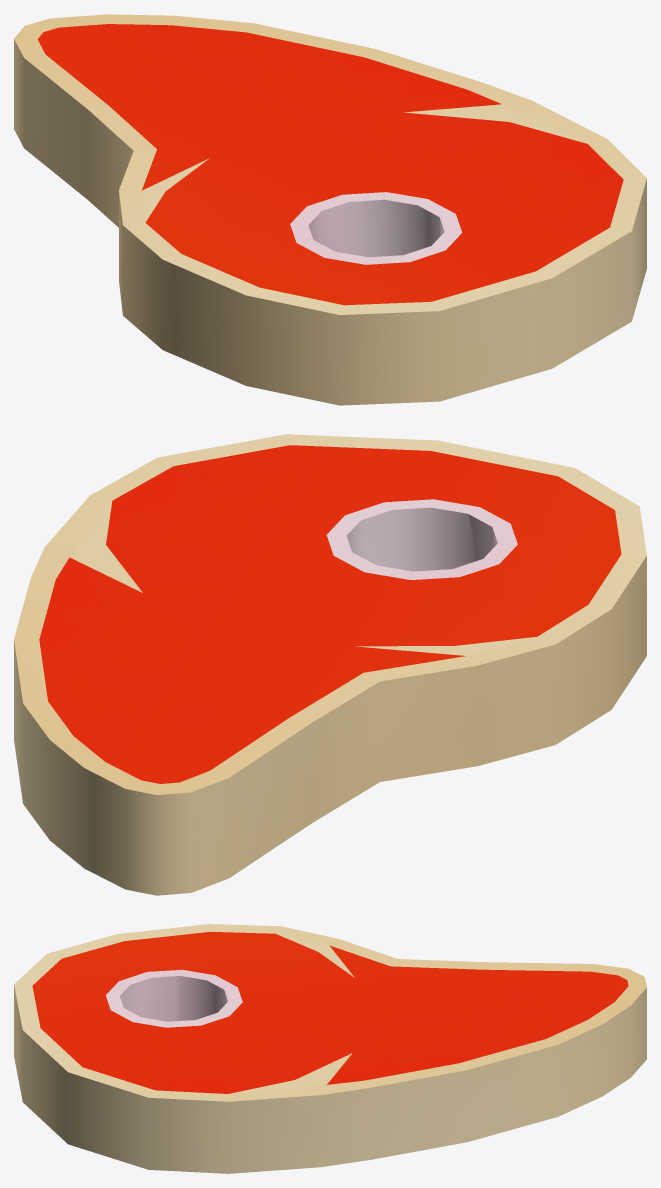
File: Steak.fbx
3 renders of one model, top to bottom at view 1: azimuth 30°, elevation 25°; view 2: azimuth 150°, elevation 25°; view 3: azimuth 270°, elevation 25°, orthographic. The views are drawn at different scales.
Visible parts, largest first — view 1: Steak; view 2: Steak; view 3: Steak.
Part boxes in pixels (<box>): Steak: <box>14,14,646,405</box>; Steak: <box>14,434,646,895</box>; Steak: <box>14,924,646,1173</box>.
Size of the model in its own units: 662 by 125 by 997.
